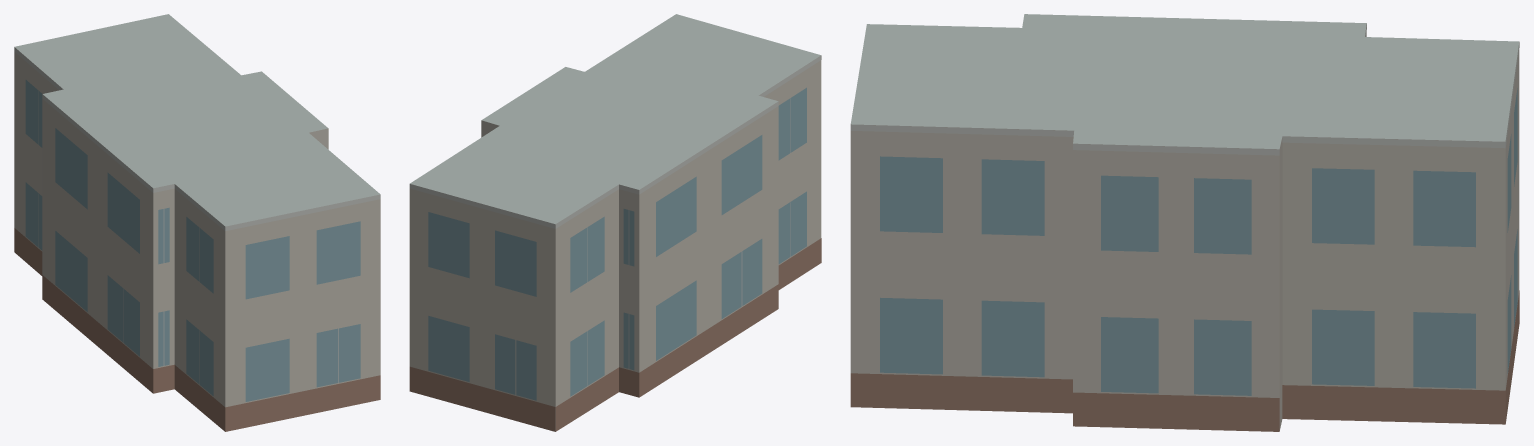
Rendered from survey-upis-32866972.glb.
The picture shows the model from 3 angles, left to right: view 1: azimuth 30°, elevation 25°; view 2: azimuth 150°, elevation 25°; view 3: azimuth 270°, elevation 25°; orthographic projection. The views are drawn at different scales.
Parts seen in each view (by area): view 1: survey-upis-32866972.tmp; view 2: survey-upis-32866972.tmp; view 3: survey-upis-32866972.tmp.
Part boxes in pixels (<box>): survey-upis-32866972.tmp: <box>14,14,380,431</box>; survey-upis-32866972.tmp: <box>409,14,821,431</box>; survey-upis-32866972.tmp: <box>850,14,1519,431</box>.
Size of the model in its own units: 11.06 by 10.77 by 23.11.
